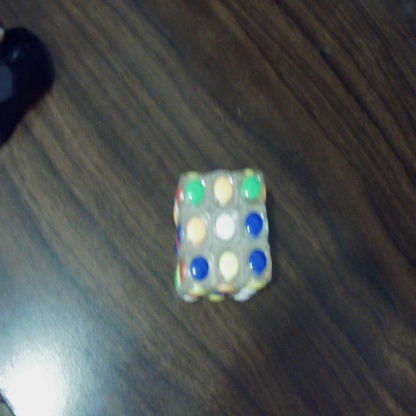Rubix Cube: (172, 170, 271, 302)
